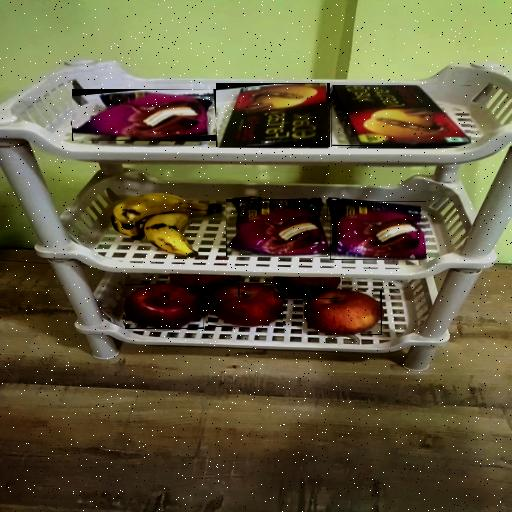Apple: (303, 290, 382, 335), (125, 284, 204, 329), (206, 283, 282, 327), (170, 275, 239, 297), (274, 277, 340, 299)
Choco Fills: (330, 86, 470, 148), (216, 83, 330, 147)
Choco Pie: (72, 89, 216, 141), (226, 199, 328, 257), (330, 201, 426, 260)
